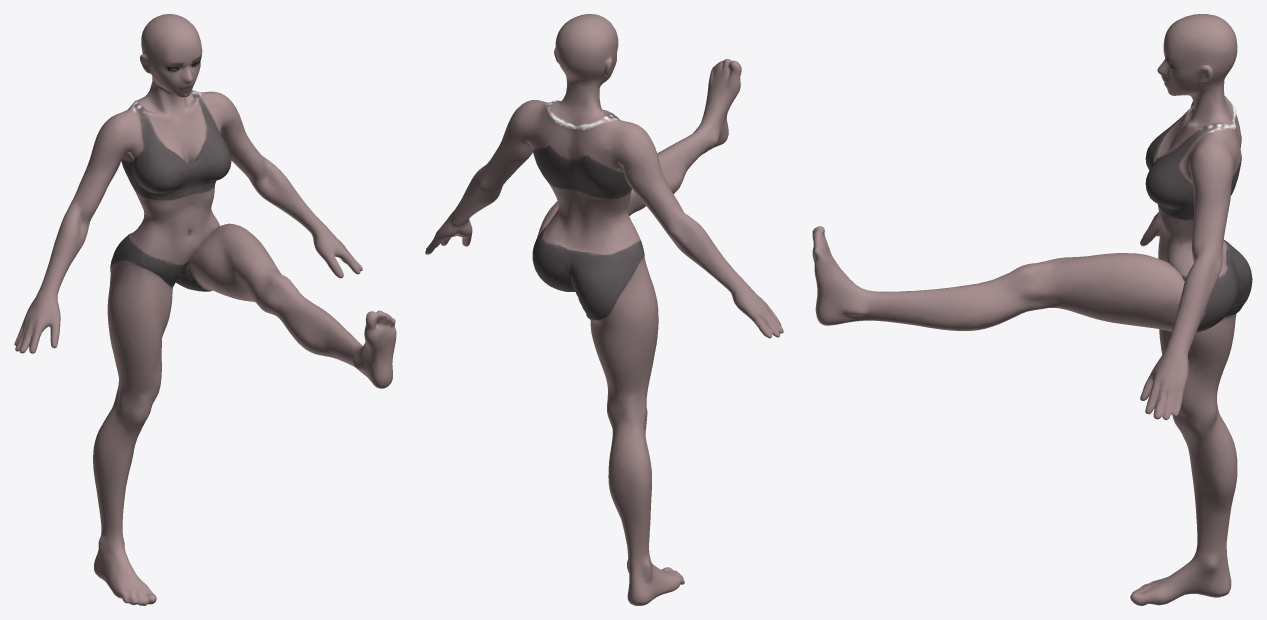
The model's file is raw-ThighR-90.glb.
3 renders of one model, left to right at view 1: azimuth 30°, elevation 25°; view 2: azimuth 150°, elevation 25°; view 3: azimuth 270°, elevation 25°, orthographic. The views are drawn at different scales.
Parts seen in each view (by area): view 1: raw-ThighR-90; view 2: raw-ThighR-90; view 3: raw-ThighR-90.
Part boxes in pixels (x1,y1,x2,y2): raw-ThighR-90: (14,14,396,605); raw-ThighR-90: (425,14,783,605); raw-ThighR-90: (812,14,1252,605).
Bounding box in the file's own units: 0.6509 × 1 × 0.6509.
Materials: 1 (1 with a texture image).
